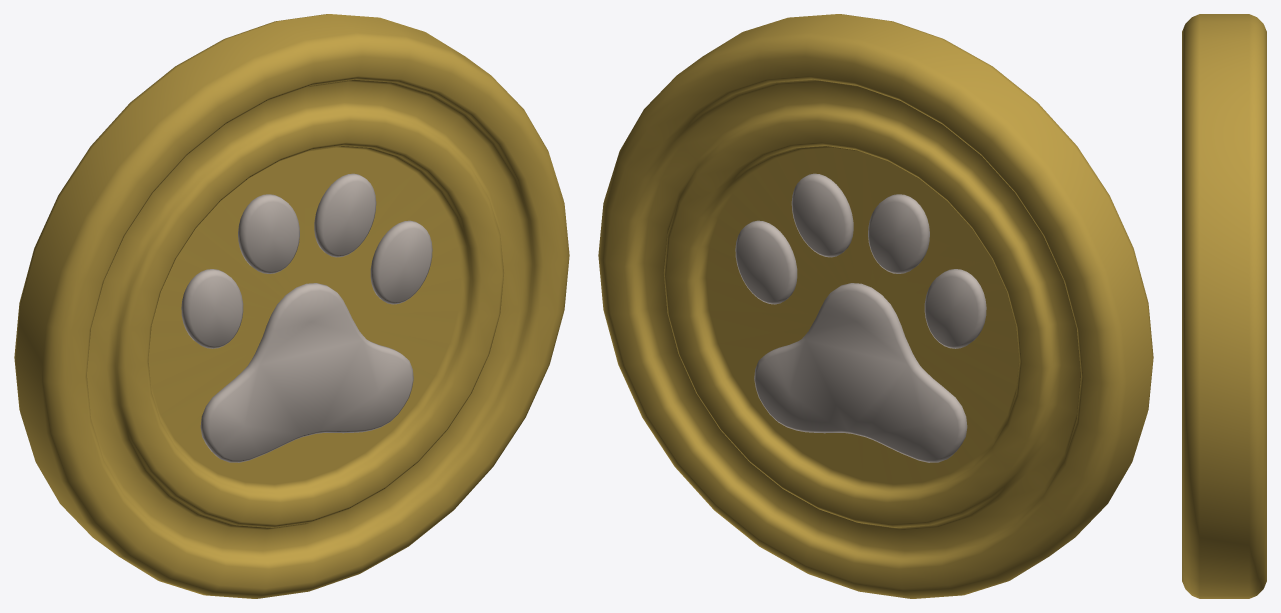
File: SM_Coin_01.fbx
3 views of the same model, side by side, from view 1: azimuth 30°, elevation 25°; view 2: azimuth 150°, elevation 25°; view 3: azimuth 270°, elevation 25° (orthographic). The views are drawn at different scales.
Visible parts, largest first — view 1: Coin_01, Coin_01.001; view 2: Coin_01, Coin_01.001; view 3: Coin_01.
Boxes of the visible parts, box(x1,y1,x2,y2) form: Coin_01: box(14, 14, 569, 598); Coin_01.001: box(181, 173, 432, 462); Coin_01: box(598, 14, 1153, 598); Coin_01.001: box(735, 173, 986, 462); Coin_01: box(1182, 14, 1266, 598).
Bounding box in the file's own units: 161 × 161 × 23.34.
